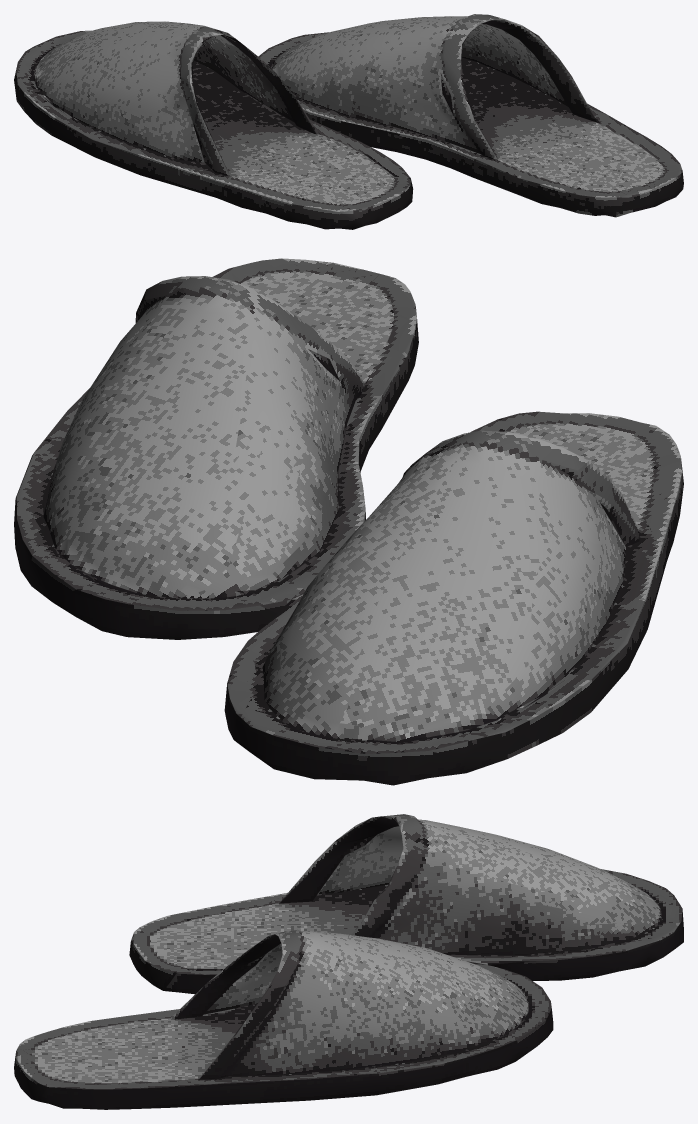
Rendered from slippers.glb.
3 renders of one model, top to bottom at view 1: azimuth 30°, elevation 25°; view 2: azimuth 150°, elevation 25°; view 3: azimuth 270°, elevation 25°, orthographic. The views are drawn at different scales.
Visible parts, largest first — view 1: mesh; view 2: mesh; view 3: mesh.
Boxes of the visible parts, bbox=[...] form: mesh: bbox=[14, 14, 683, 229]; mesh: bbox=[14, 258, 683, 785]; mesh: bbox=[14, 814, 683, 1109].
Bounding box in the file's own units: 0.3224 × 0.08 × 0.4012.
Materials: 1 (1 with a texture image).
